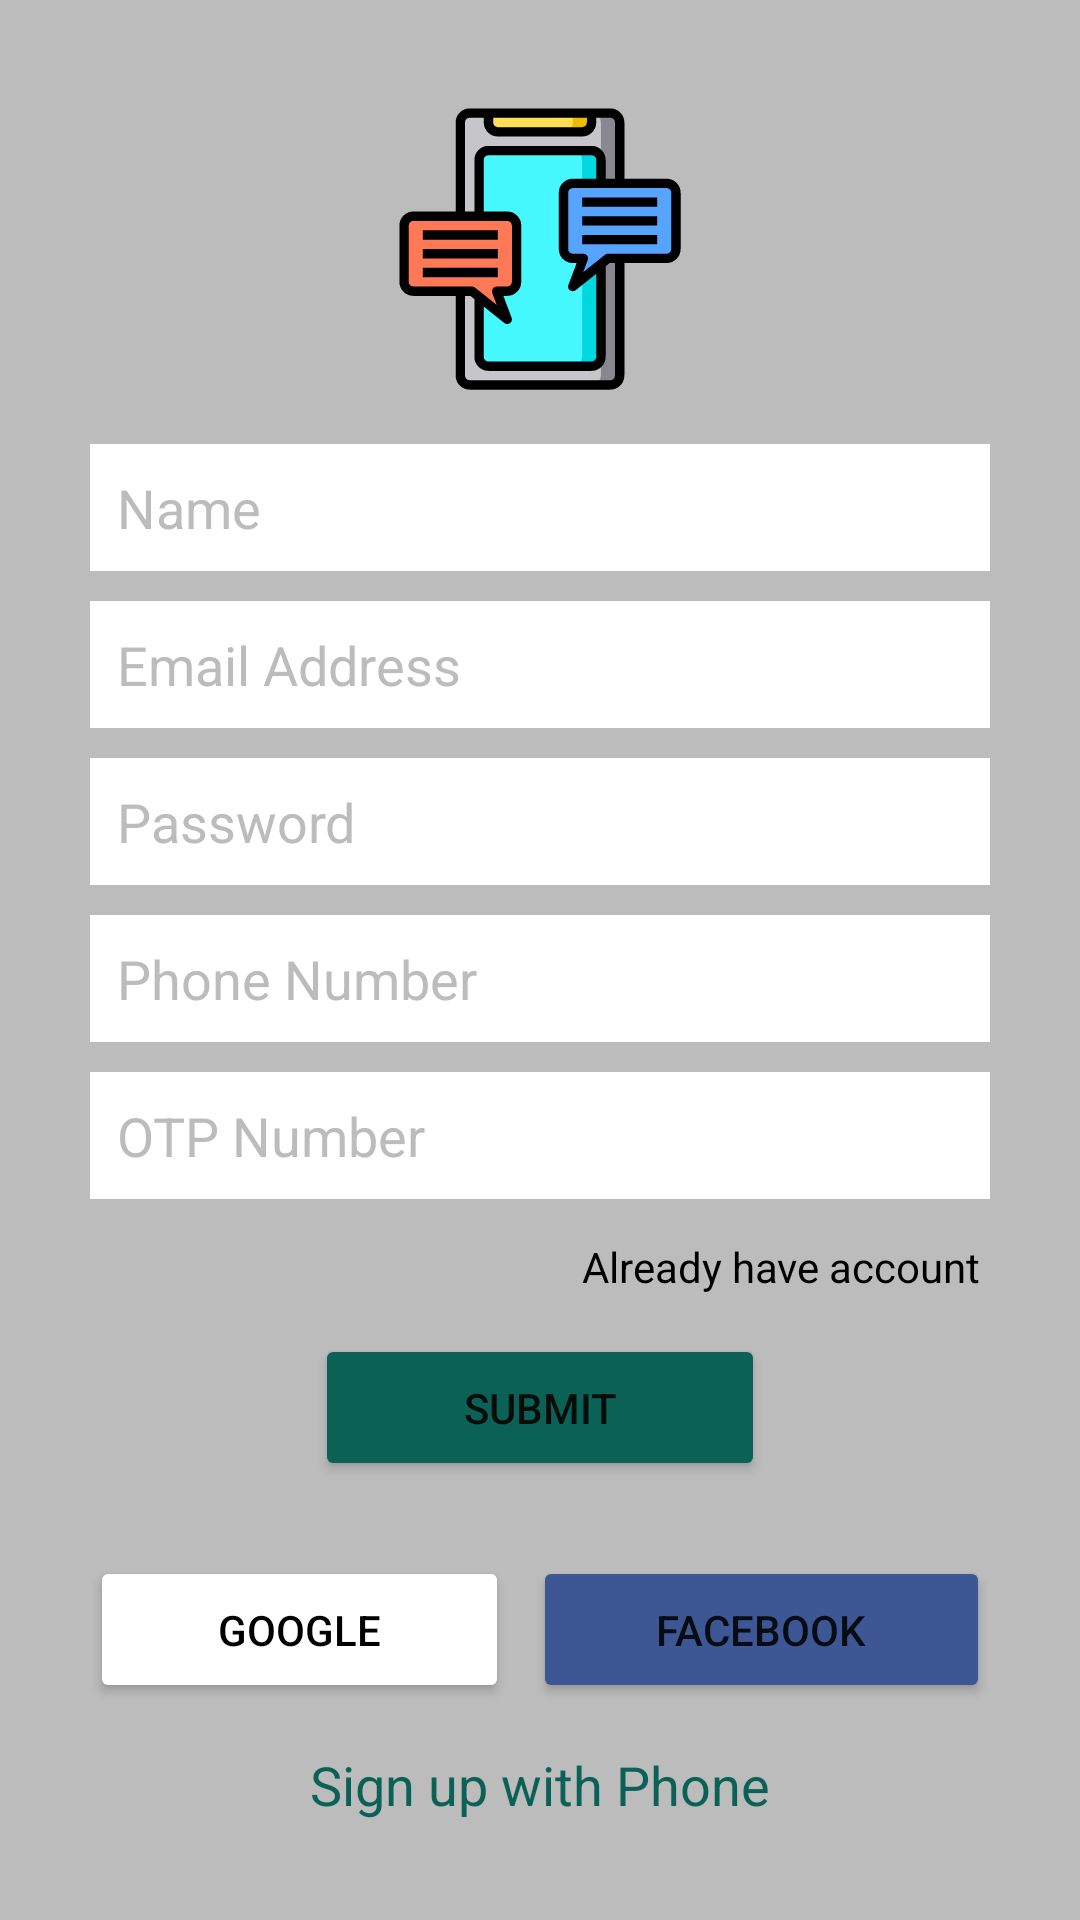

Screen size 1080px x 1920px. Icon name, then its center in pixels as [x,y]:
chat: [540,249]
